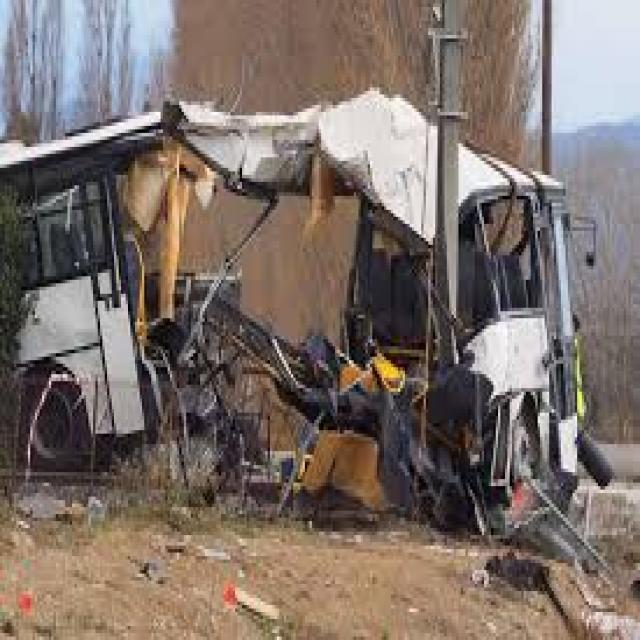accident: (38, 92, 617, 578)
